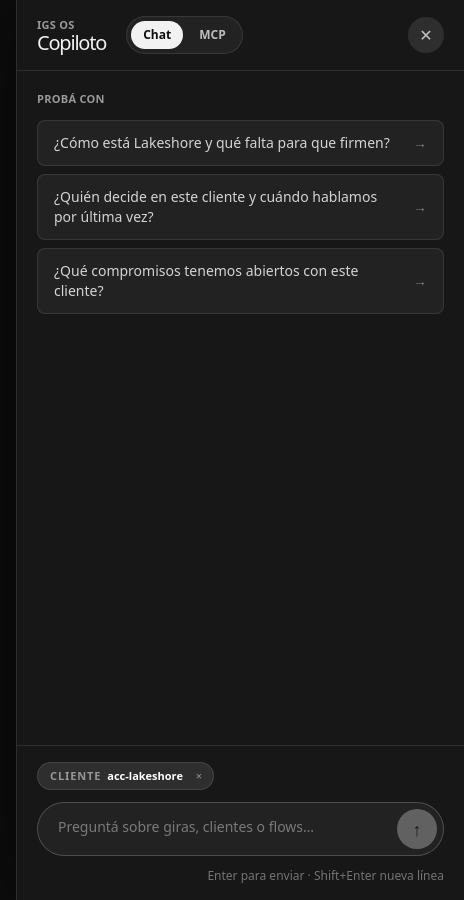
CopilotDrawer › shows the unavailable state when the API has no model (503)
Click the button "¿Cómo está Lakeshore y qué falta para que firmen?": (240, 142) left=37, top=120, right=444, bottom=166
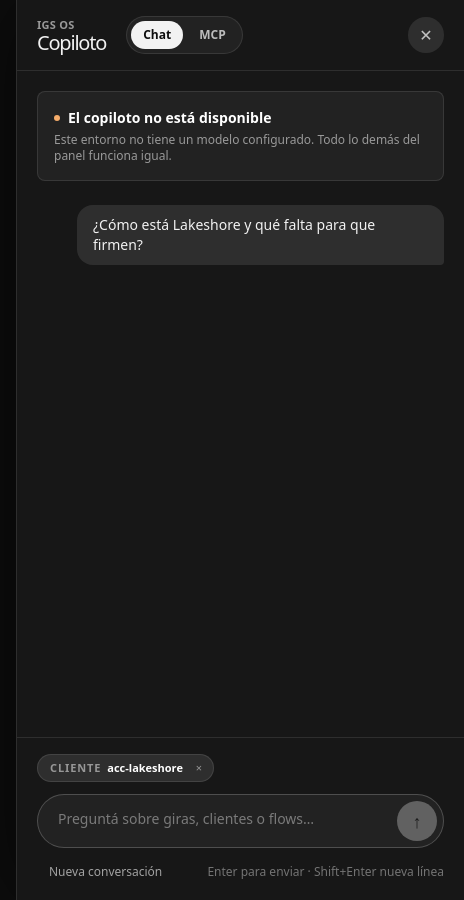
expect the text "El copiloto no está disponible" is shown: met, box left=54, top=108, right=272, bottom=127
